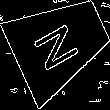N_NE: (32, 14, 88, 73)
